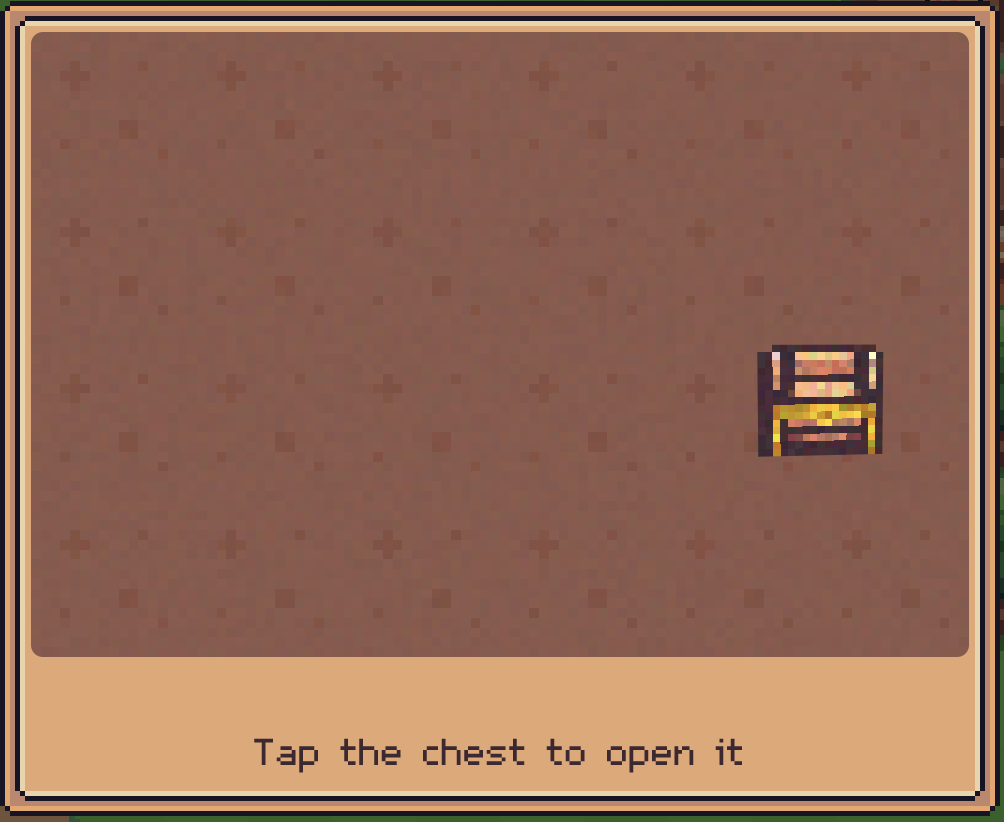capcha_chest: (755, 343, 888, 463)
